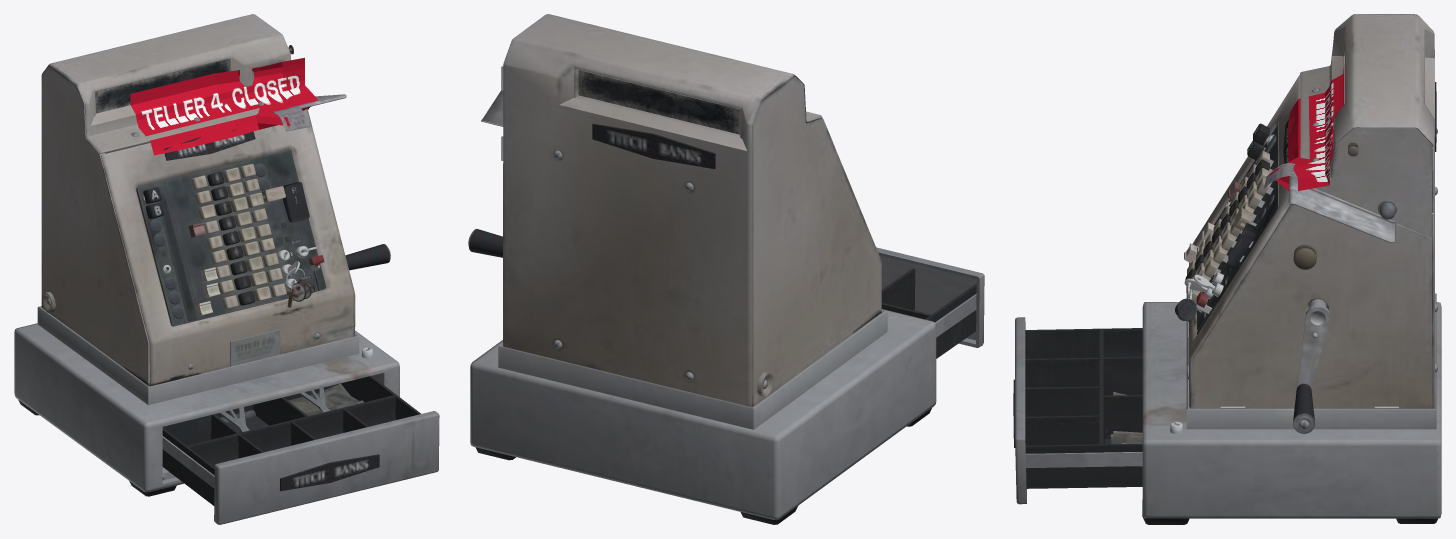
The model's file is nyb_insideman_teller.glb.
3 renders of one model, left to right at view 1: azimuth 30°, elevation 25°; view 2: azimuth 150°, elevation 25°; view 3: azimuth 270°, elevation 25°, orthographic. The views are drawn at different scales.
Visible parts, largest first — view 1: CashRegister_01_body, stk_lbl_2f51e03576.png; view 2: CashRegister_01_body; view 3: CashRegister_01_body, stk_lbl_2f51e03576.png.
Boxes of the visible parts, left/top/right/bottom form: CashRegister_01_body: left=14, top=14, right=439, bottom=524; stk_lbl_2f51e03576.png: left=130, top=57, right=318, bottom=155; CashRegister_01_body: left=468, top=14, right=984, bottom=524; CashRegister_01_body: left=1013, top=14, right=1441, bottom=524; stk_lbl_2f51e03576.png: left=1269, top=64, right=1344, bottom=190.
Size of the model in its own units: 0.6005 by 0.6213 by 0.6242.
Materials: 3 (3 with a texture image).
